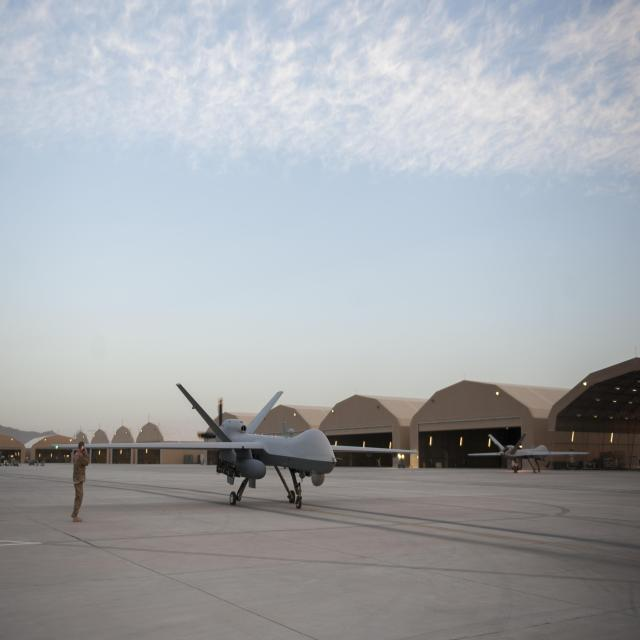MIL_Plane: (49, 383, 418, 509), (467, 432, 590, 473), (43, 453, 66, 463)
